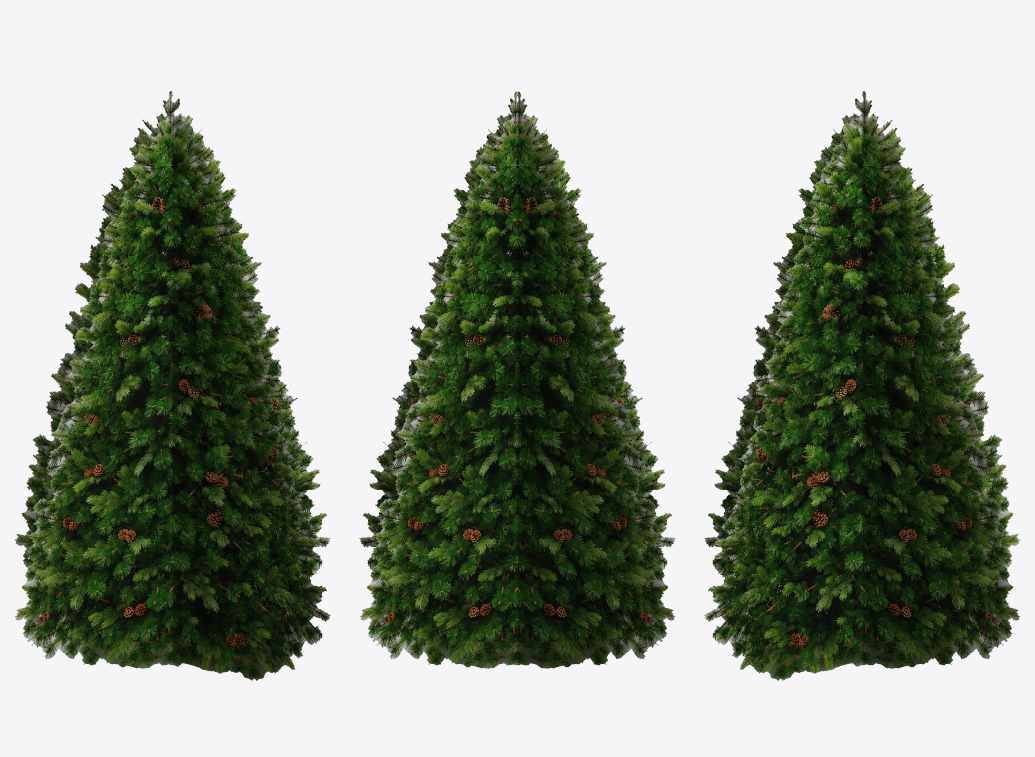
The model's file is 07-verde-pinhas-2-10m.glb.
The picture shows the model from 3 angles, left to right: view 1: azimuth 30°, elevation 25°; view 2: azimuth 150°, elevation 25°; view 3: azimuth 270°, elevation 25°; orthographic projection.
Visible parts, largest first — view 1: 07-verde-pinhas-2,1m; view 2: 07-verde-pinhas-2,1m; view 3: 07-verde-pinhas-2,1m.
Part boxes in pixels (left/top/right/bottom): 07-verde-pinhas-2,1m: left=15, top=91, right=330, bottom=680; 07-verde-pinhas-2,1m: left=359, top=91, right=675, bottom=668; 07-verde-pinhas-2,1m: left=704, top=91, right=1019, bottom=680.
Size of the model in its own units: 1.21 by 2.1 by 1.05.
Materials: 1 (1 with a texture image).
